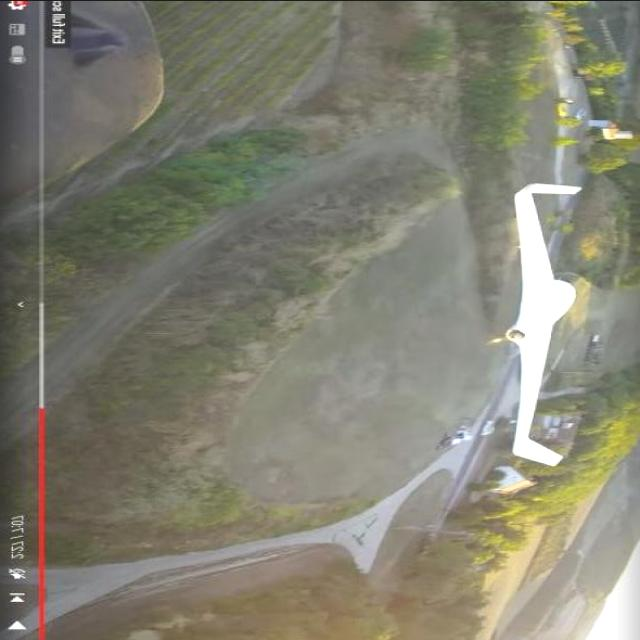plane: (494, 182, 584, 468)
